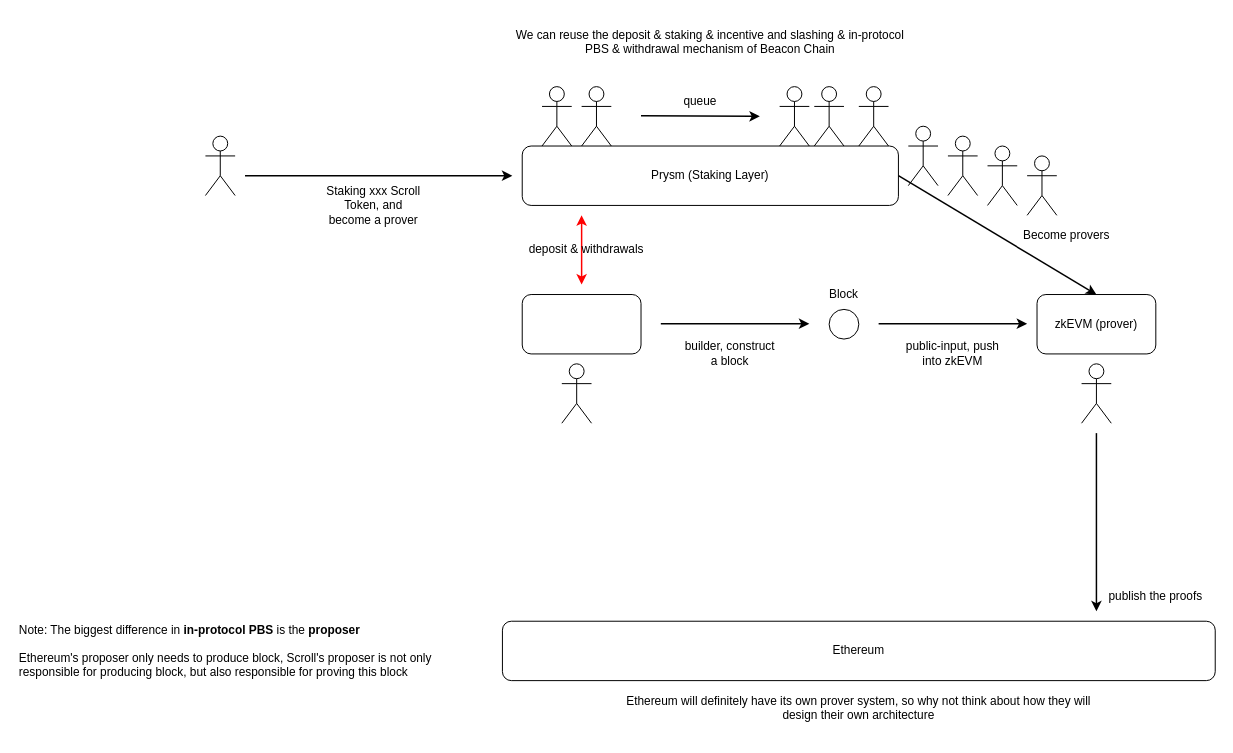
This 1233x753 diagram has some shape labels left out. Here are the shapes that lost their labels. From the top down, the centre of each, then its label:
At point (219, 165): "New prover".
At point (581, 324): "Geth (Sequencer)".
